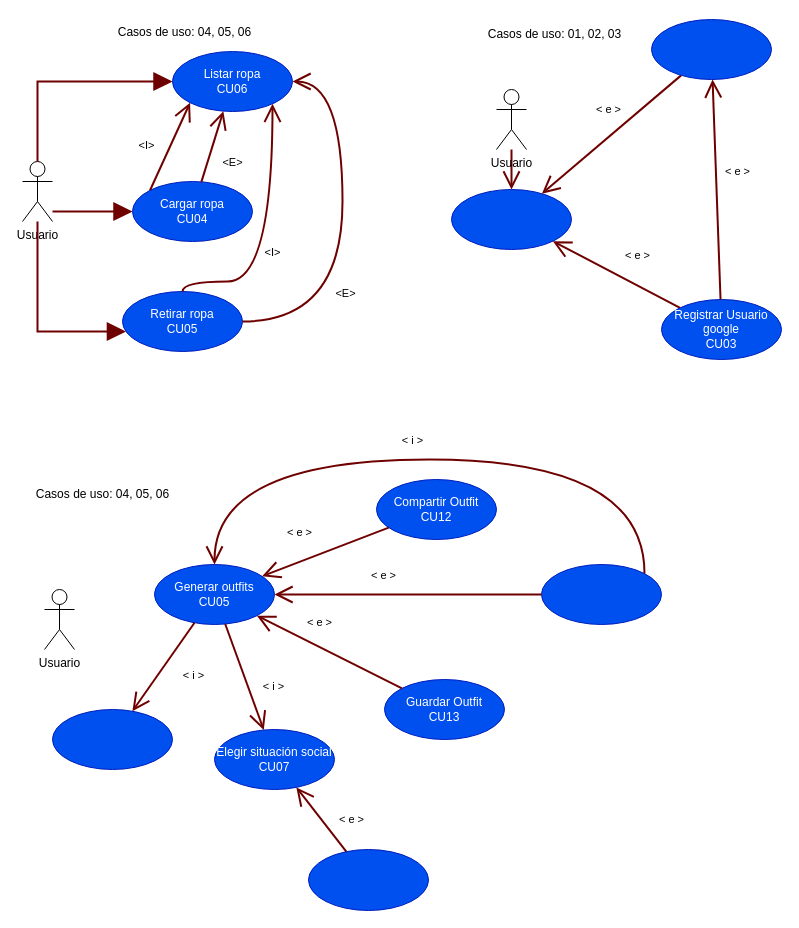
This 799x928 diagram has some shape labels left out. The shapes that lost their labels are listed below. From the top down, each one's box as (x1, y1, x2, y2) in pixels, then its label:
(650, 18, 772, 80): Registrar Usuario CU02
(450, 188, 572, 250): Login CU01
(540, 564, 662, 624): Skipear Outfis CU11
(52, 708, 172, 770): Elegir localidad CU07
(308, 848, 428, 910): Crear situación social CU09
